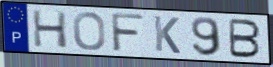9: (189, 16, 223, 57)
B: (228, 17, 263, 60)
F: (109, 12, 146, 54)
H: (31, 9, 70, 49)
K: (152, 15, 182, 56)
O: (72, 11, 108, 52)
